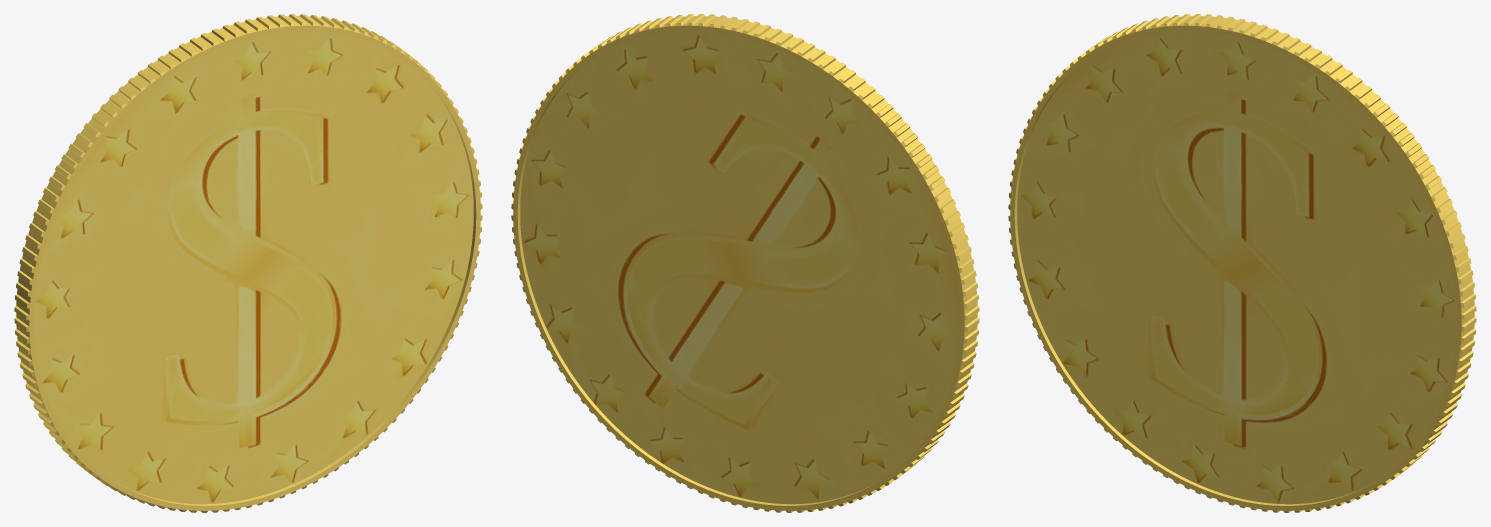
Rendered from coin.glb.
3 renders of one model, left to right at view 1: azimuth 30°, elevation 25°; view 2: azimuth 150°, elevation 25°; view 3: azimuth 330°, elevation 25°, orthographic.
Parts seen in each view (by area): view 1: Cylinder; view 2: Cylinder; view 3: Cylinder.
Part boxes in pixels (x1,y1,x2,y2): Cylinder: (14,14,482,512); Cylinder: (511,14,979,512); Cylinder: (1008,14,1476,512).
Bounding box in the file's own units: 2.02 × 2.02 × 0.1009.
Materials: 2 (1 with a texture image).
